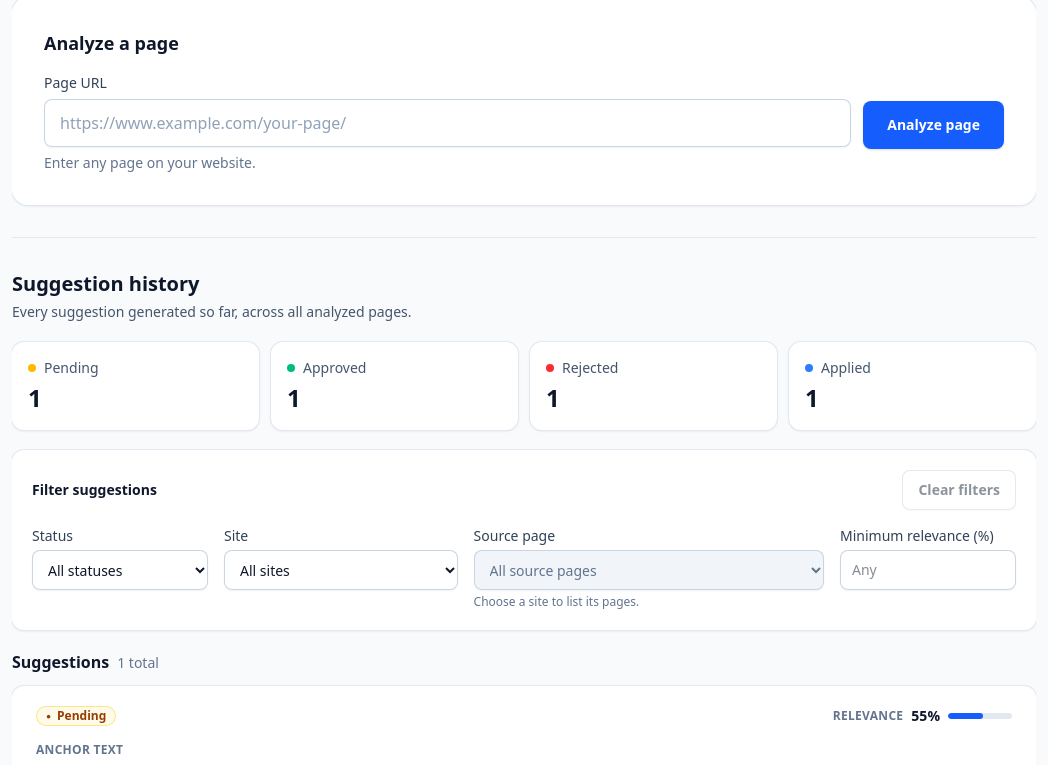
InterlinkPage › URL state › keeps the previous results on screen while a filter change loads
Select "Applied" in the dropdown labelled "Status" at point(120, 570), box [32, 550, 208, 590]
(page scrolled)
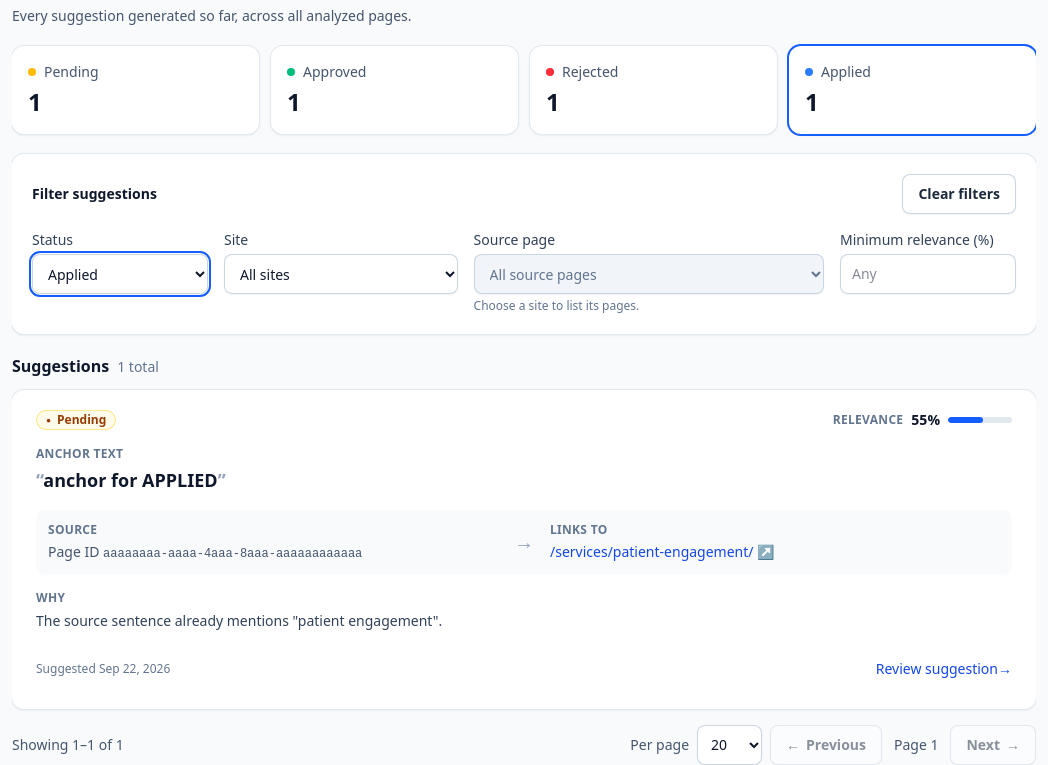
Now the heading "“anchor for APPLIED”" is shown, box [36, 468, 226, 492]
